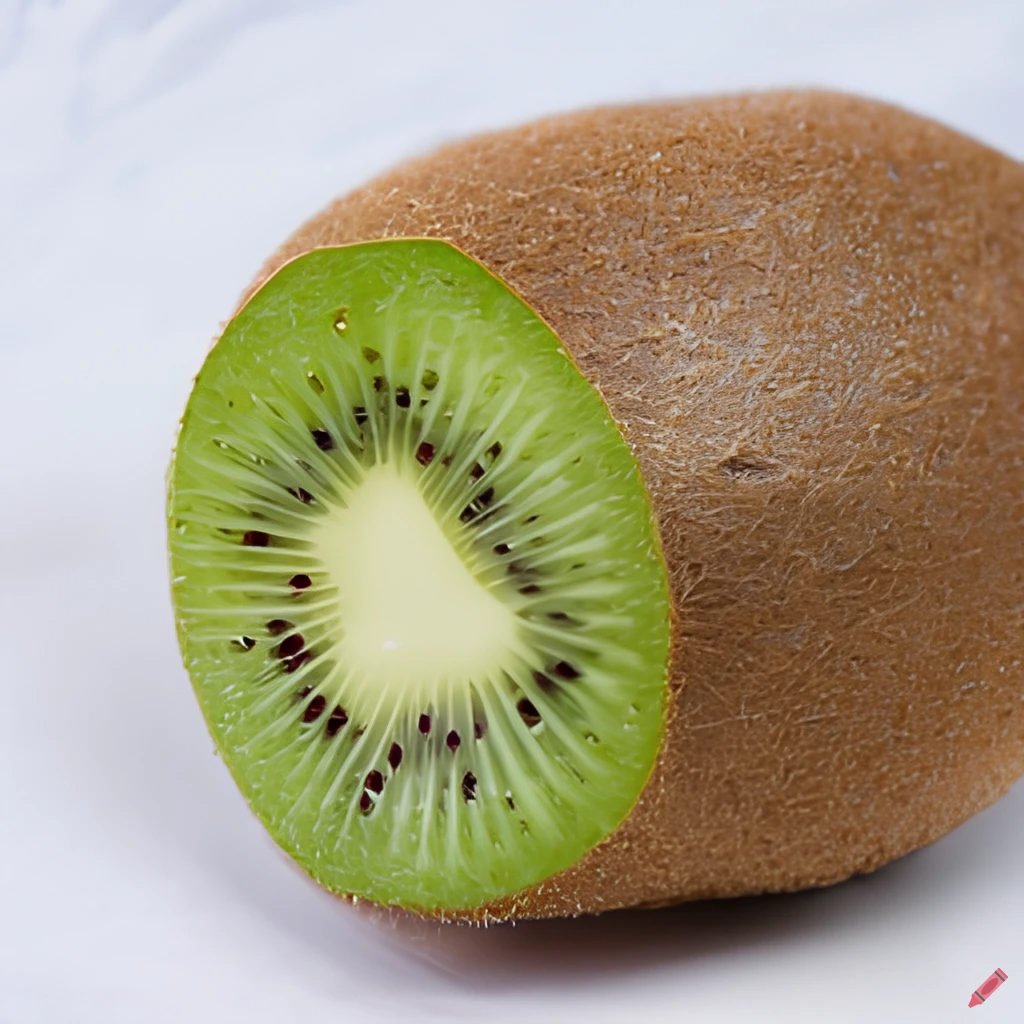Kiwi: (164, 88, 1024, 932)
